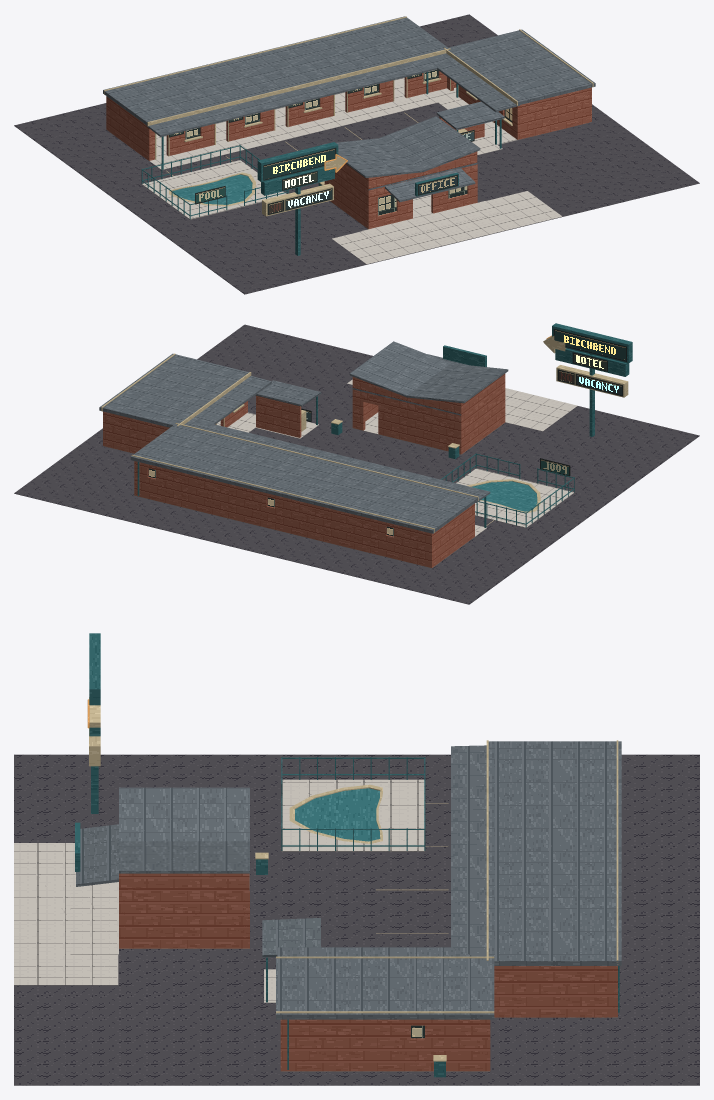
Rendered from birchbend-1955-mid.glb.
3 renders of one model, top to bottom at view 1: azimuth 30°, elevation 25°; view 2: azimuth 150°, elevation 25°; view 3: azimuth 270°, elevation 25°, orthographic. The views are drawn at different scales.
Visible parts, largest first — view 1: shell, lot, pool, roadside_sign, interior, sign_name_street, sign_vacancy_street; view 2: shell, lot, pool, roadside_sign, sign_name_exit, interior, sign_vacancy_exit; view 3: lot, shell, pool, roadside_sign.
Part boxes in pixels (x1,y1,x2,y2): shell: (103, 16, 595, 229); lot: (14, 14, 699, 294); pool: (141, 145, 288, 219); roadside_sign: (257, 142, 347, 255); interior: (106, 77, 591, 228); sign_name_street: (263, 147, 336, 180); sign_vacancy_street: (285, 188, 332, 210); shell: (99, 341, 508, 567); lot: (14, 324, 699, 604); pool: (441, 453, 574, 527); roadside_sign: (543, 323, 632, 436); sign_name_exit: (553, 329, 626, 361); interior: (103, 412, 504, 568); sign_vacancy_exit: (575, 374, 622, 396); lot: (14, 754, 699, 1085); shell: (75, 740, 621, 1071); pool: (281, 757, 425, 851); roadside_sign: (87, 633, 100, 813).
Bounding box in the file's own units: 35.8 × 7.69 × 31.4.
12 materials, 12 textured.
